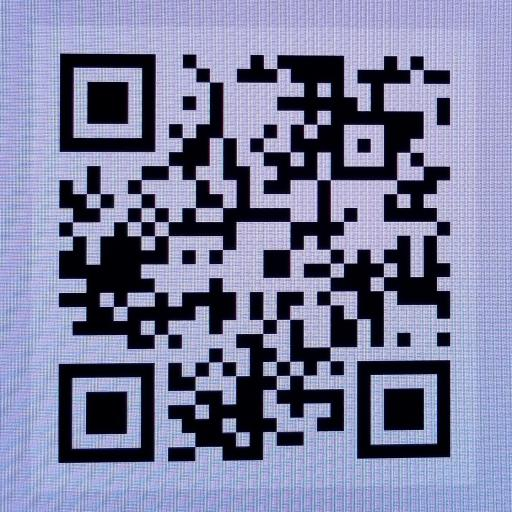QR_CODE: (37, 31, 475, 483)
